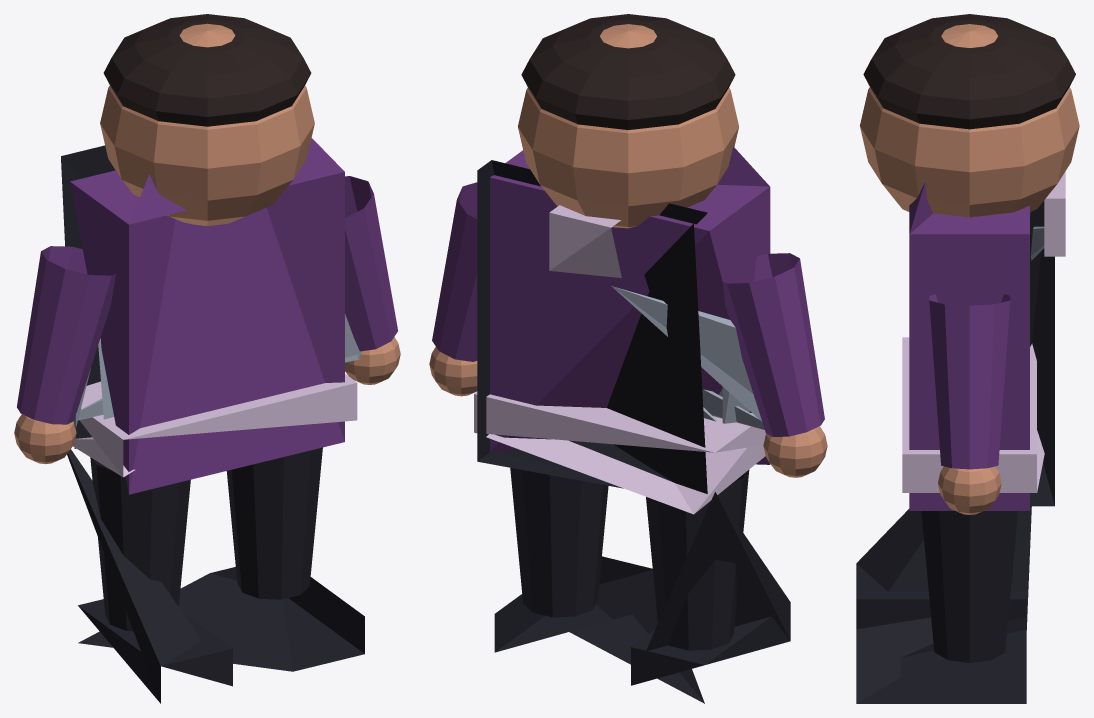
The model's file is Assassin_Male.obj.
The picture shows the model from 3 angles, left to right: view 1: azimuth 30°, elevation 25°; view 2: azimuth 150°, elevation 25°; view 3: azimuth 270°, elevation 25°; orthographic projection. The views are drawn at different scales.
Visible parts, largest first — view 1: Assassin_Male; view 2: Assassin_Male; view 3: Assassin_Male.
Boxes of the visible parts, x1=… form: Assassin_Male: x1=14, y1=14, x2=400, y2=703; Assassin_Male: x1=429, y1=14, x2=827, y2=703; Assassin_Male: x1=856, y1=14, x2=1079, y2=703.
Size of the model in its own units: 1.26 by 1.93 by 0.63.
